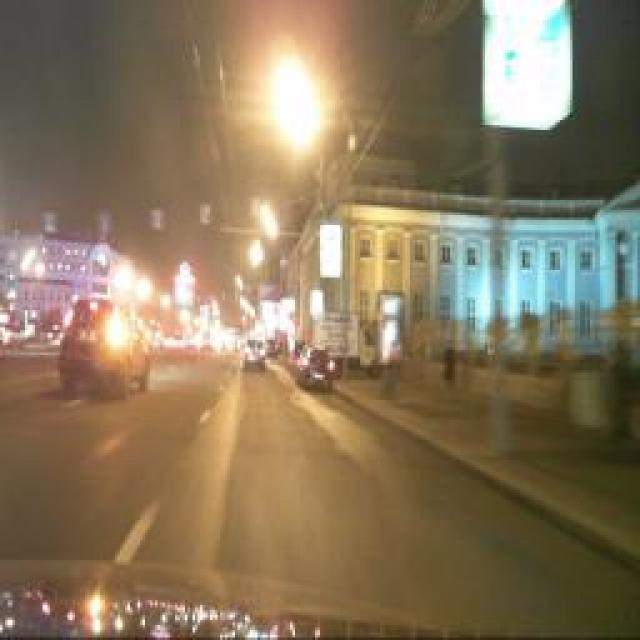sign: (150, 208, 162, 230), (249, 196, 261, 216), (199, 204, 211, 224)
